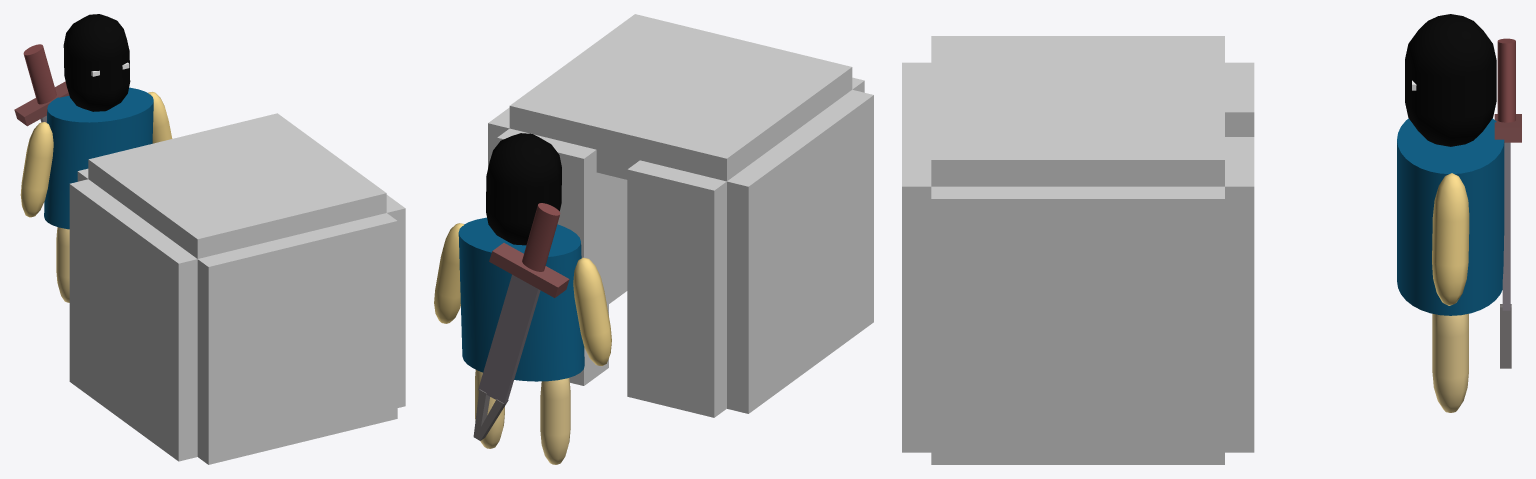
The picture shows the model from 3 angles, left to right: view 1: azimuth 30°, elevation 25°; view 2: azimuth 150°, elevation 25°; view 3: azimuth 270°, elevation 25°; orthographic projection. The views are drawn at different scales.
Visible parts, largest first — view 1: Box (×4), body, head, left_arm, Cylinder, left_leg, Box_1, right_arm; view 2: Box (×6), body, head, left_arm, left_leg, right_arm, Box_1, Cylinder, Text_1, right_leg; view 3: Box (×6), body, head, right_arm, right_leg, Cylinder, Text_1, Box_1.
Boxes of the visible parts, box(x1,y1,x2,y2) form: Box (×4): box(69, 113, 405, 464); body: box(44, 87, 153, 229); head: box(63, 14, 130, 111); left_arm: box(20, 122, 53, 217); Cylinder: box(23, 44, 56, 104); left_leg: box(56, 227, 69, 302); Box_1: box(14, 81, 69, 126); right_arm: box(148, 92, 172, 143); Box (×6): box(478, 14, 873, 417); body: box(458, 217, 584, 381); head: box(486, 133, 561, 245); left_arm: box(573, 257, 611, 366); left_leg: box(540, 378, 570, 464); right_arm: box(434, 223, 464, 323); Box_1: box(489, 243, 569, 297); Cylinder: box(522, 203, 560, 271); Text_1: box(473, 389, 508, 440); right_leg: box(475, 370, 504, 448); Box (×6): box(902, 36, 1510, 464); body: box(1397, 118, 1504, 315); head: box(1405, 14, 1496, 146); right_arm: box(1432, 173, 1469, 305); right_leg: box(1432, 314, 1468, 412); Cylinder: box(1497, 38, 1515, 122); Text_1: box(1500, 304, 1511, 368); Box_1: box(1494, 114, 1521, 142).
Bounding box in the file's own units: 1.92 × 2.26 × 3.38.
